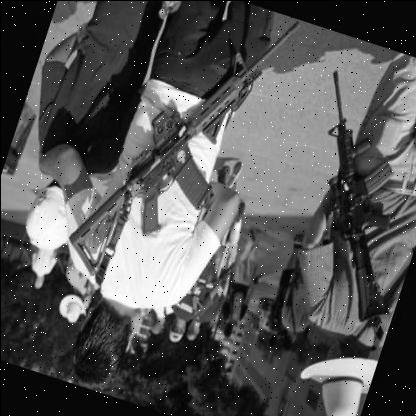rifle: (66, 0, 303, 305), (257, 63, 416, 331)
